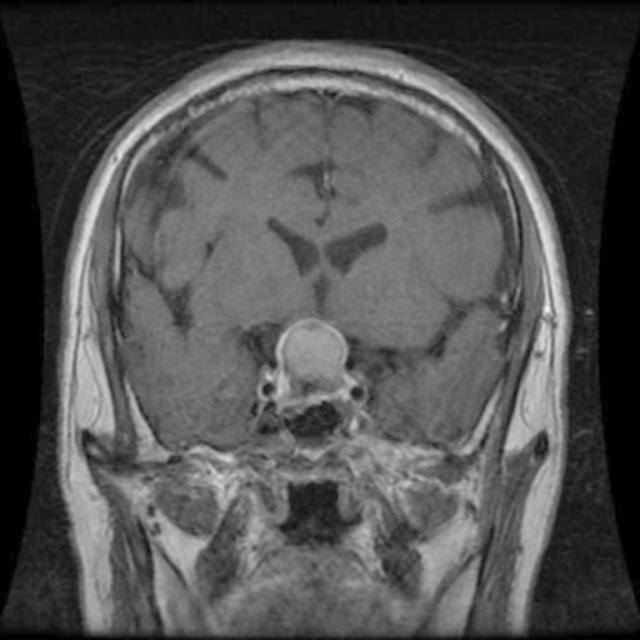no tumor: (274, 310, 351, 412)
